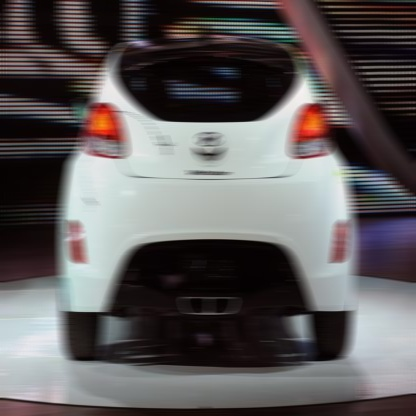Vehicle: (57, 24, 354, 365)
